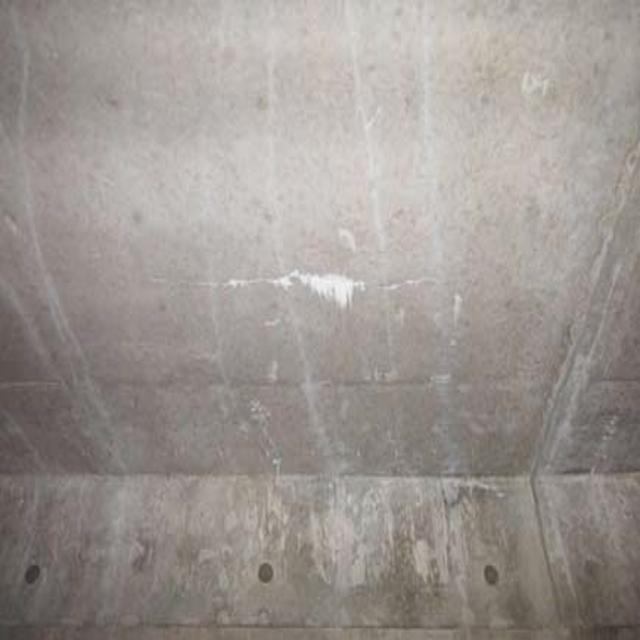freelime: (263, 254, 363, 317)
